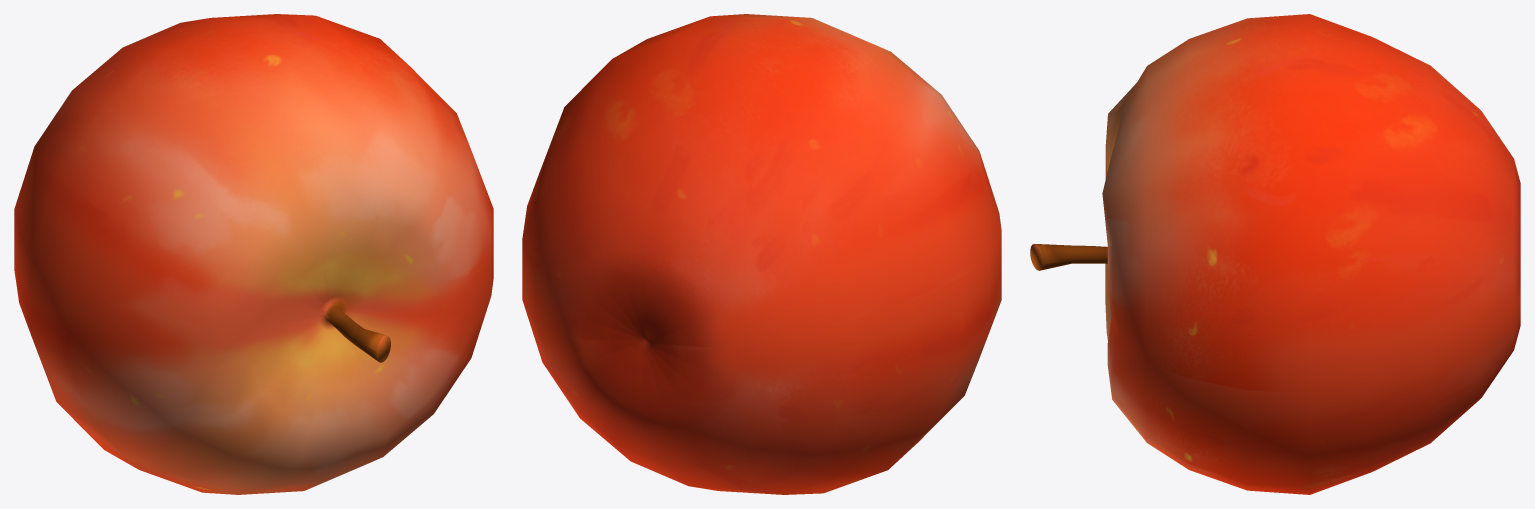
Rendered from apple.fbx.
3 views of the same model, side by side, from view 1: azimuth 30°, elevation 25°; view 2: azimuth 150°, elevation 25°; view 3: azimuth 270°, elevation 25° (orthographic). The views are drawn at different scales.
Visible parts, largest first — view 1: apple; view 2: apple; view 3: apple.
Part boxes in pixels (x1,y1,x2,y2): apple: [14, 14, 493, 494]; apple: [522, 14, 1001, 494]; apple: [1030, 14, 1520, 494].
Bounding box in the file's own units: 197 × 198 × 203.
